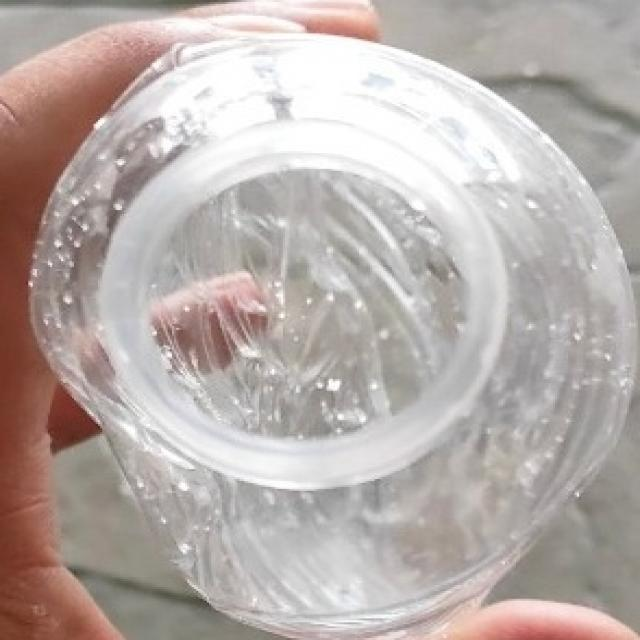bottle: (30, 29, 638, 640)
